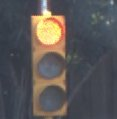Red: (26, 11, 65, 119)
